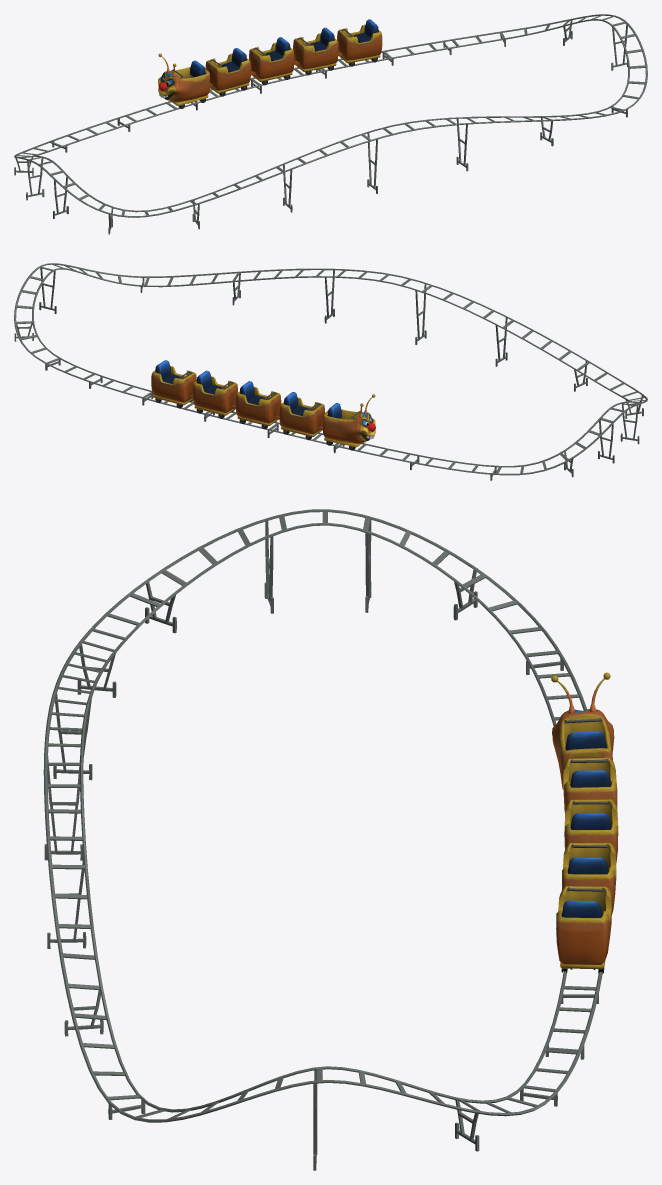
The model's file is minhocao_coaster.glb.
3 views of the same model, one above another, from view 1: azimuth 30°, elevation 25°; view 2: azimuth 150°, elevation 25°; view 3: azimuth 270°, elevation 25° (orthographic). The views are drawn at different scales.
Parts seen in each view (by area): view 1: Track, Car1_Head, Car4, Car5, Car3, Car2; view 2: Track, Car1_Head, Car3, Car4, Car2, Car5; view 3: Track, Car5, Car1_Head, Car4, Car3, Car2.
Boxes of the visible parts, x1,y1,x2,y2 form: Track: [14, 14, 647, 234]; Car1_Head: [158, 53, 209, 108]; Car4: [293, 27, 338, 75]; Car5: [337, 19, 382, 66]; Car3: [249, 37, 294, 85]; Car2: [205, 48, 250, 96]; Track: [14, 263, 647, 480]; Car1_Head: [323, 394, 375, 450]; Car3: [235, 381, 281, 429]; Car4: [192, 370, 237, 418]; Car2: [279, 392, 324, 440]; Car5: [151, 360, 196, 408]; Track: [43, 509, 602, 1170]; Car5: [556, 886, 611, 973]; Car1_Head: [551, 672, 614, 789]; Car4: [562, 843, 616, 914]; Car3: [564, 799, 618, 862]; Car2: [563, 757, 617, 813].
Size of the model in its own units: 21.64 by 2.04 by 9.15.
1 material, 1 textured.
